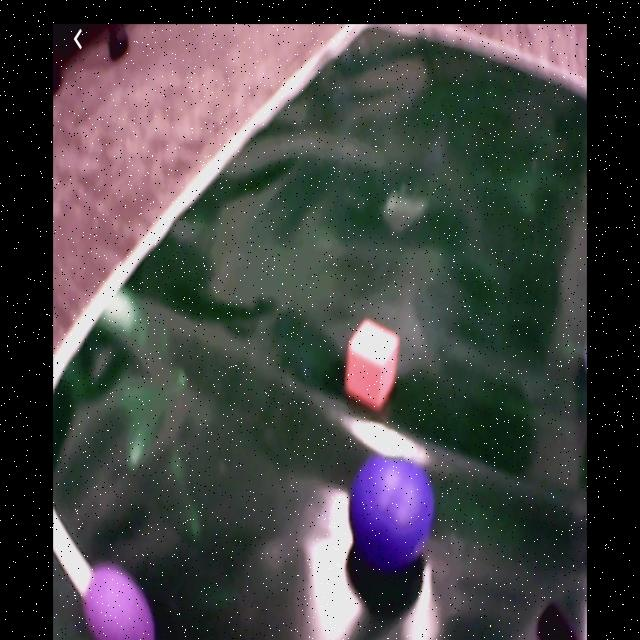ball: (349, 456, 433, 568), (85, 567, 158, 640)
